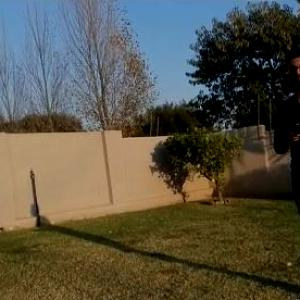follow: (264, 43, 299, 299)
